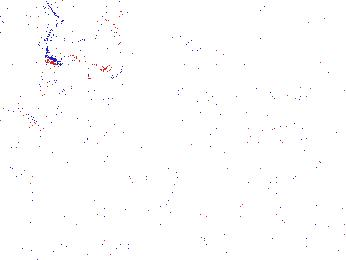moon jellyfish: (244, 94, 333, 181), (17, 64, 92, 131), (47, 17, 126, 77), (1, 13, 46, 97), (149, 41, 235, 79)
